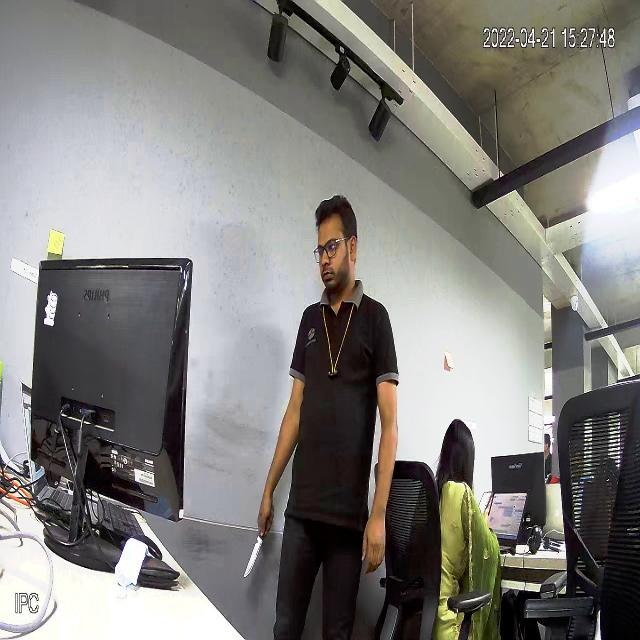Knife: (231, 518, 281, 588)
